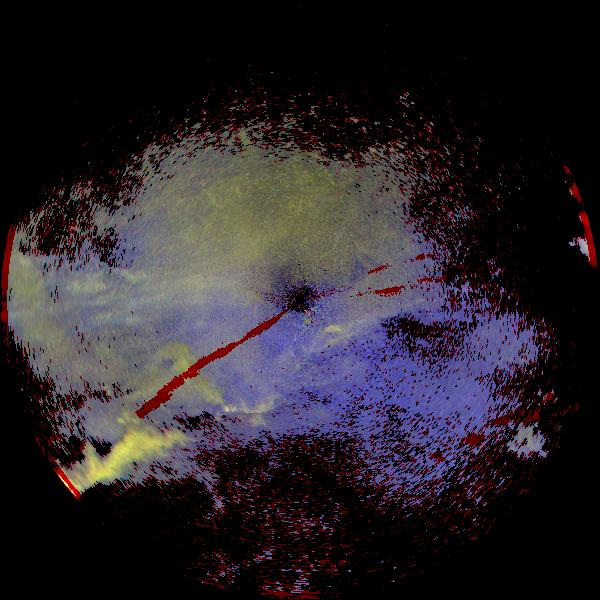roost: (122, 326, 209, 413)
